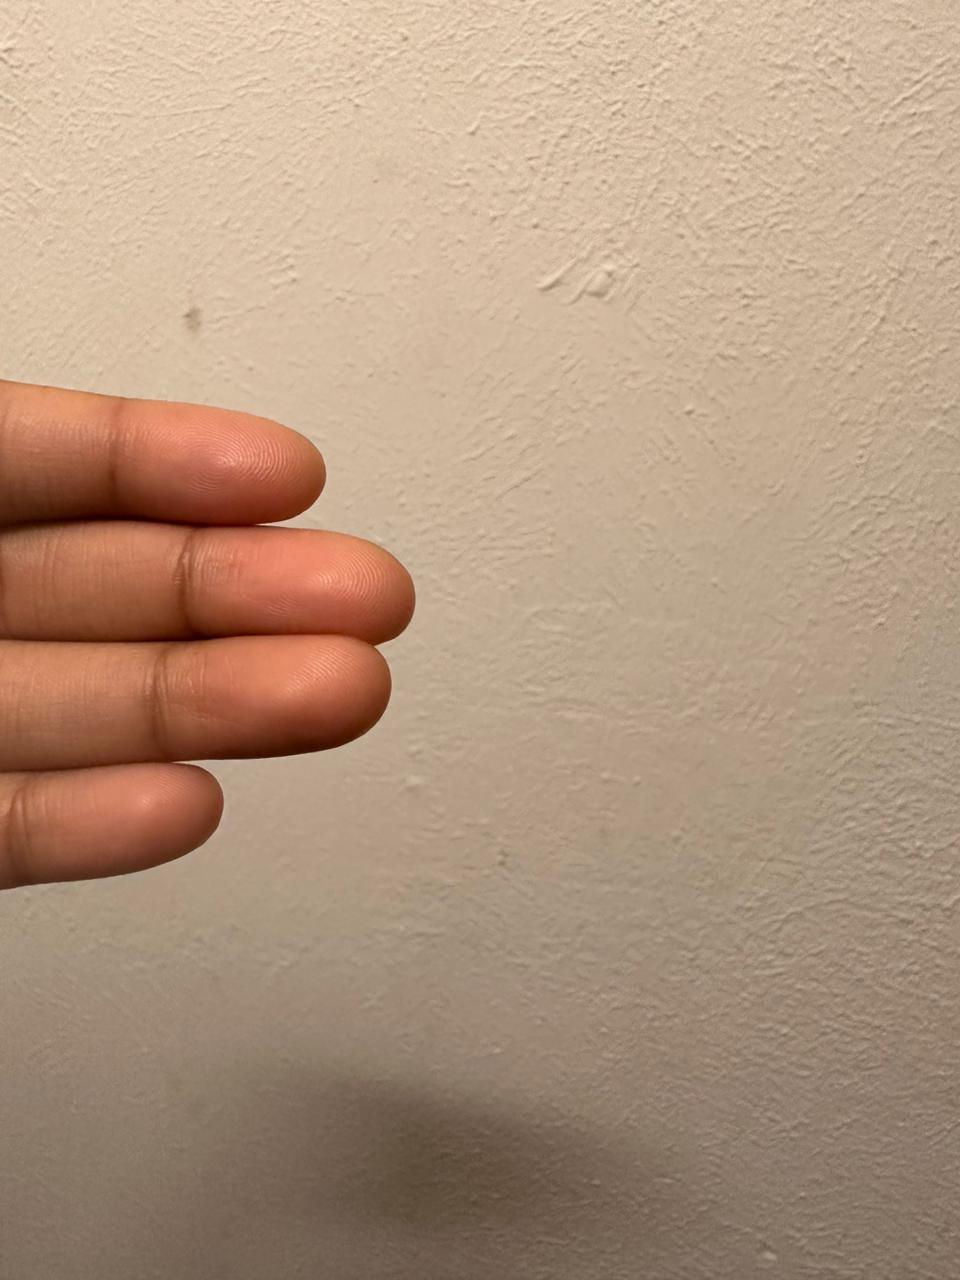finger: (154, 634, 426, 756), (8, 760, 250, 878), (181, 526, 435, 637), (119, 395, 335, 521)
